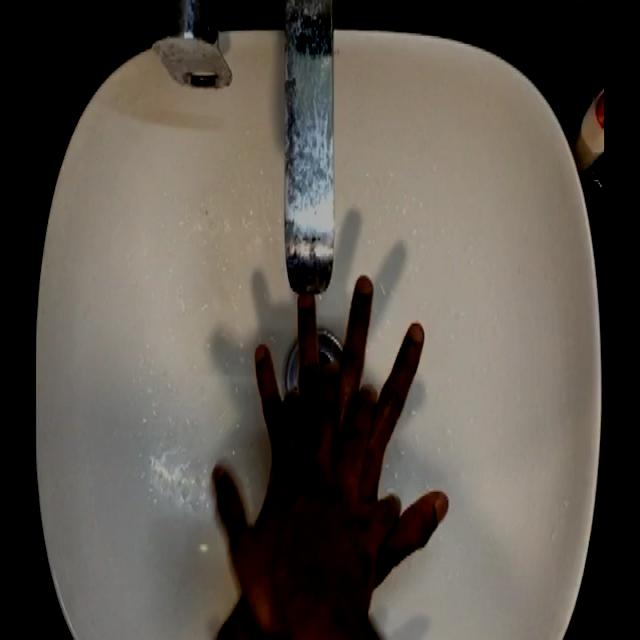step_2: (203, 268, 456, 605)
